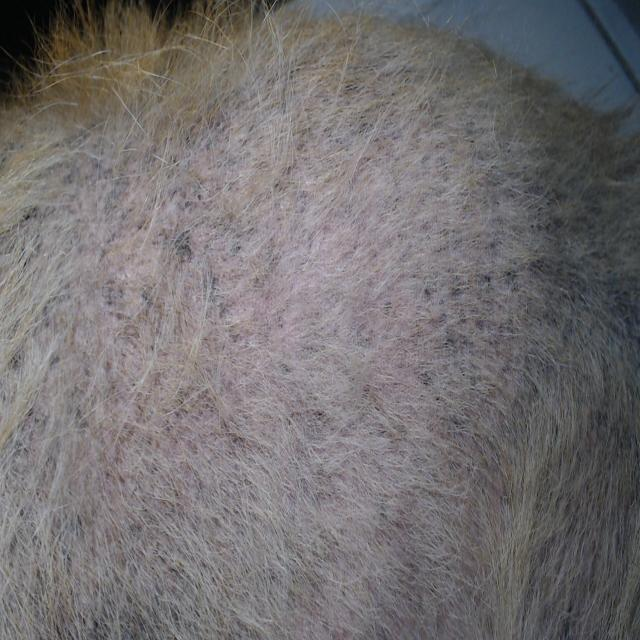demodicosis: (37, 182, 283, 528), (304, 92, 530, 441)
